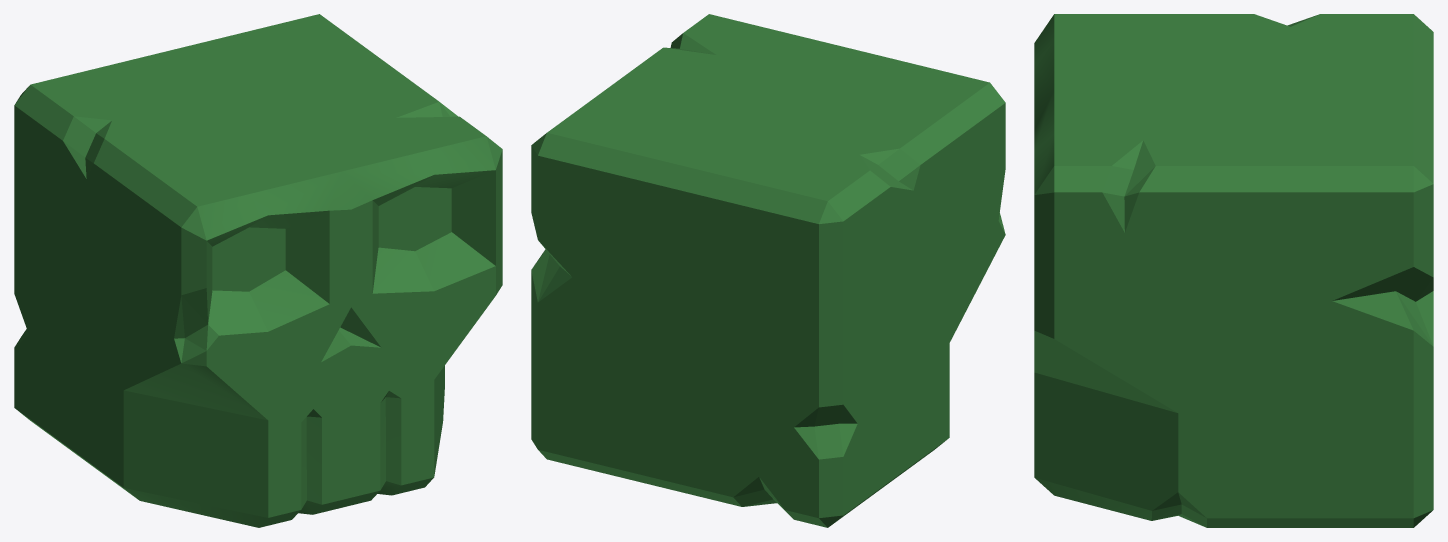
Rendered from m_dec_dung_statue_skullLarge.fbx.
3 renders of one model, left to right at view 1: azimuth 30°, elevation 25°; view 2: azimuth 150°, elevation 25°; view 3: azimuth 270°, elevation 25°, orthographic. The views are drawn at different scales.
Visible parts, largest first — view 1: m_dec_dung_statue_skullLarge; view 2: m_dec_dung_statue_skullLarge; view 3: m_dec_dung_statue_skullLarge.
Boxes of the visible parts, x1,y1,x2,y2 form: m_dec_dung_statue_skullLarge: (14,14,502,527); m_dec_dung_statue_skullLarge: (531,14,1005,527); m_dec_dung_statue_skullLarge: (1034,14,1433,527).
Size of the model in its own units: 2 by 2 by 2.
